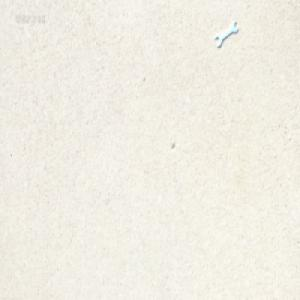Wrench: (211, 22, 236, 50)
